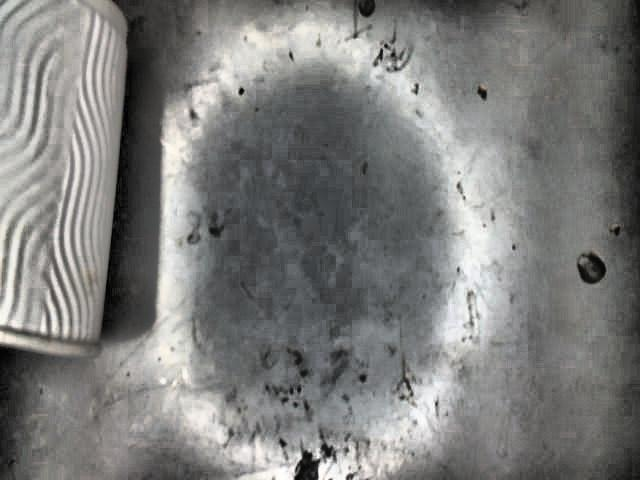Paper: (0, 0, 129, 360)
